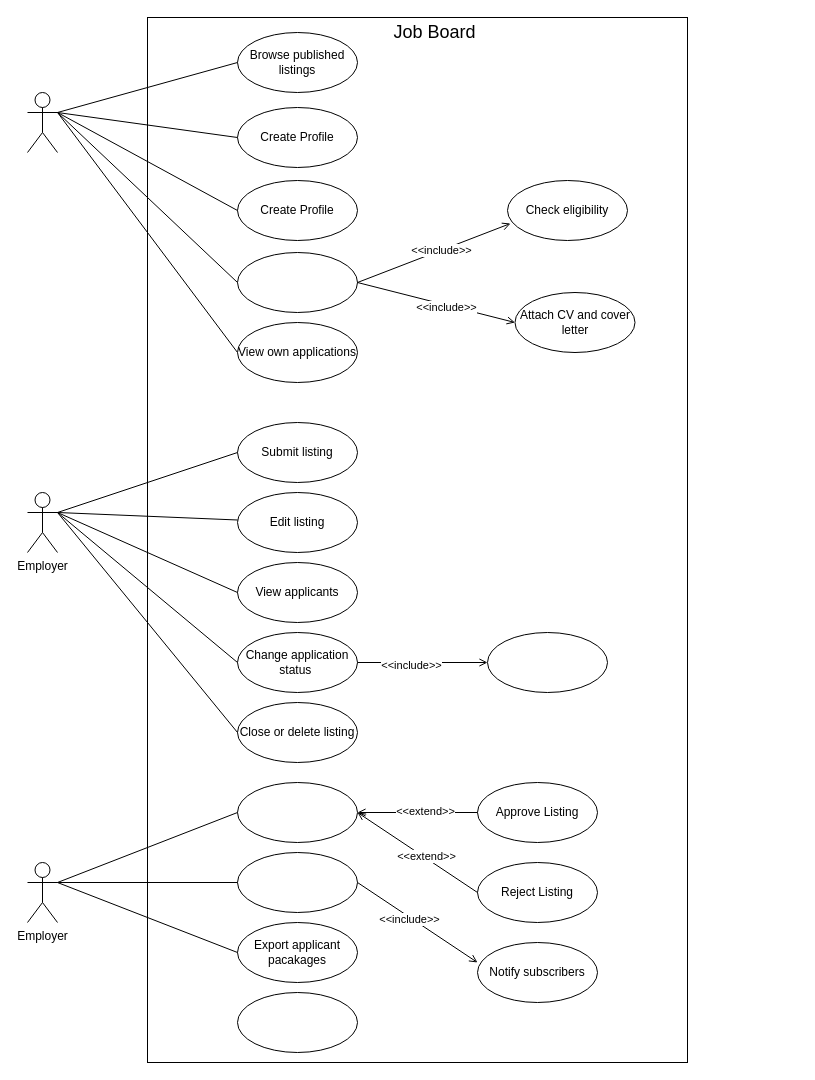
The diagram is 815 pixels wide and 1080 high, and some of its shapes have lost their labels. The shapes that lost their labels are listed below. From the top down, each one's box as (x1, y1, x2, y2) in pixels, then its label:
(26, 92, 58, 152): Graduate
(236, 252, 358, 312): Apply to listing
(486, 632, 608, 692): Validate application
(236, 782, 358, 842): Review listings
(236, 852, 358, 912): Publish Listing
(236, 992, 358, 1052): Suspend or deactivate accounts
